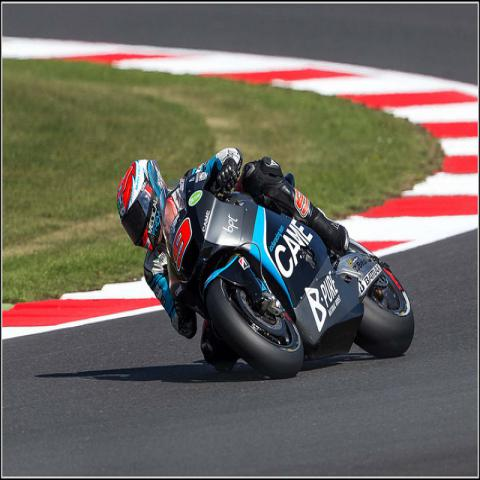motorcycle: (162, 172, 414, 378)
